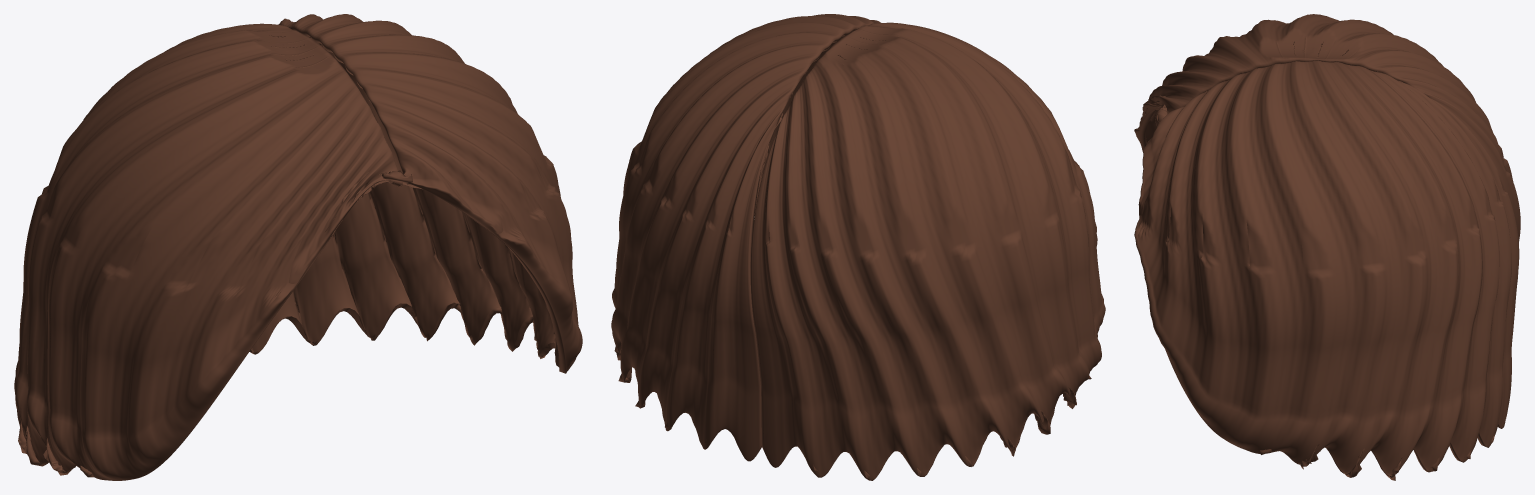
The model's file is Masculine-flow-cowboy252-hair.glb.
3 renders of one model, left to right at view 1: azimuth 30°, elevation 25°; view 2: azimuth 150°, elevation 25°; view 3: azimuth 270°, elevation 25°, orthographic. The views are drawn at different scales.
Visible parts, largest first — view 1: 226 hair / Hair252 / flowing sculpt flow.001; view 2: 226 hair / Hair252 / flowing sculpt flow.001; view 3: 226 hair / Hair252 / flowing sculpt flow.001.
Boxes of the visible parts, bbox=[...] form: 226 hair / Hair252 / flowing sculpt flow.001: bbox=[14, 14, 582, 480]; 226 hair / Hair252 / flowing sculpt flow.001: bbox=[611, 14, 1105, 480]; 226 hair / Hair252 / flowing sculpt flow.001: bbox=[1134, 14, 1520, 480].
Size of the model in its own units: 1.11 by 0.8579 by 0.8431.
